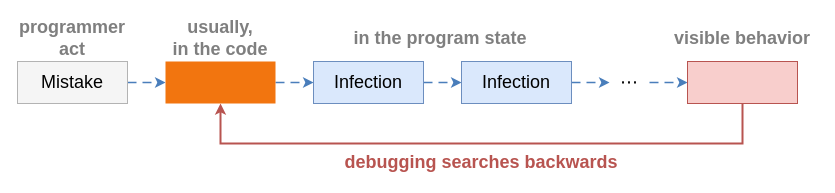
Image size: 835x193. Some labels were removed from this diagram. Here are the shapes that lost their labels. From the top down, the box of each, then its label:
(165, 61, 275, 103): Defect
(686, 60, 798, 104): Failure
